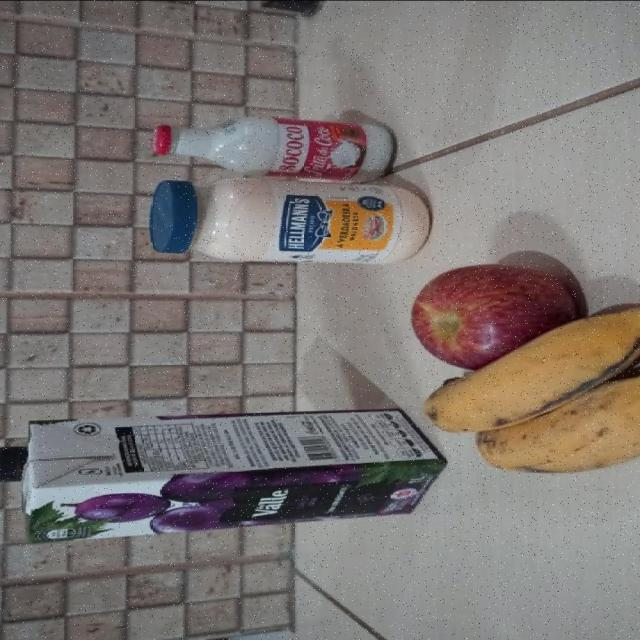Apple: (412, 264, 578, 372)
Banana: (423, 304, 640, 472)
CoconutMilk: (151, 119, 395, 180)
Mayonnaise: (151, 176, 427, 263)
